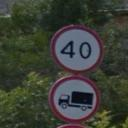speed_limit_40: (47, 24, 108, 74)
